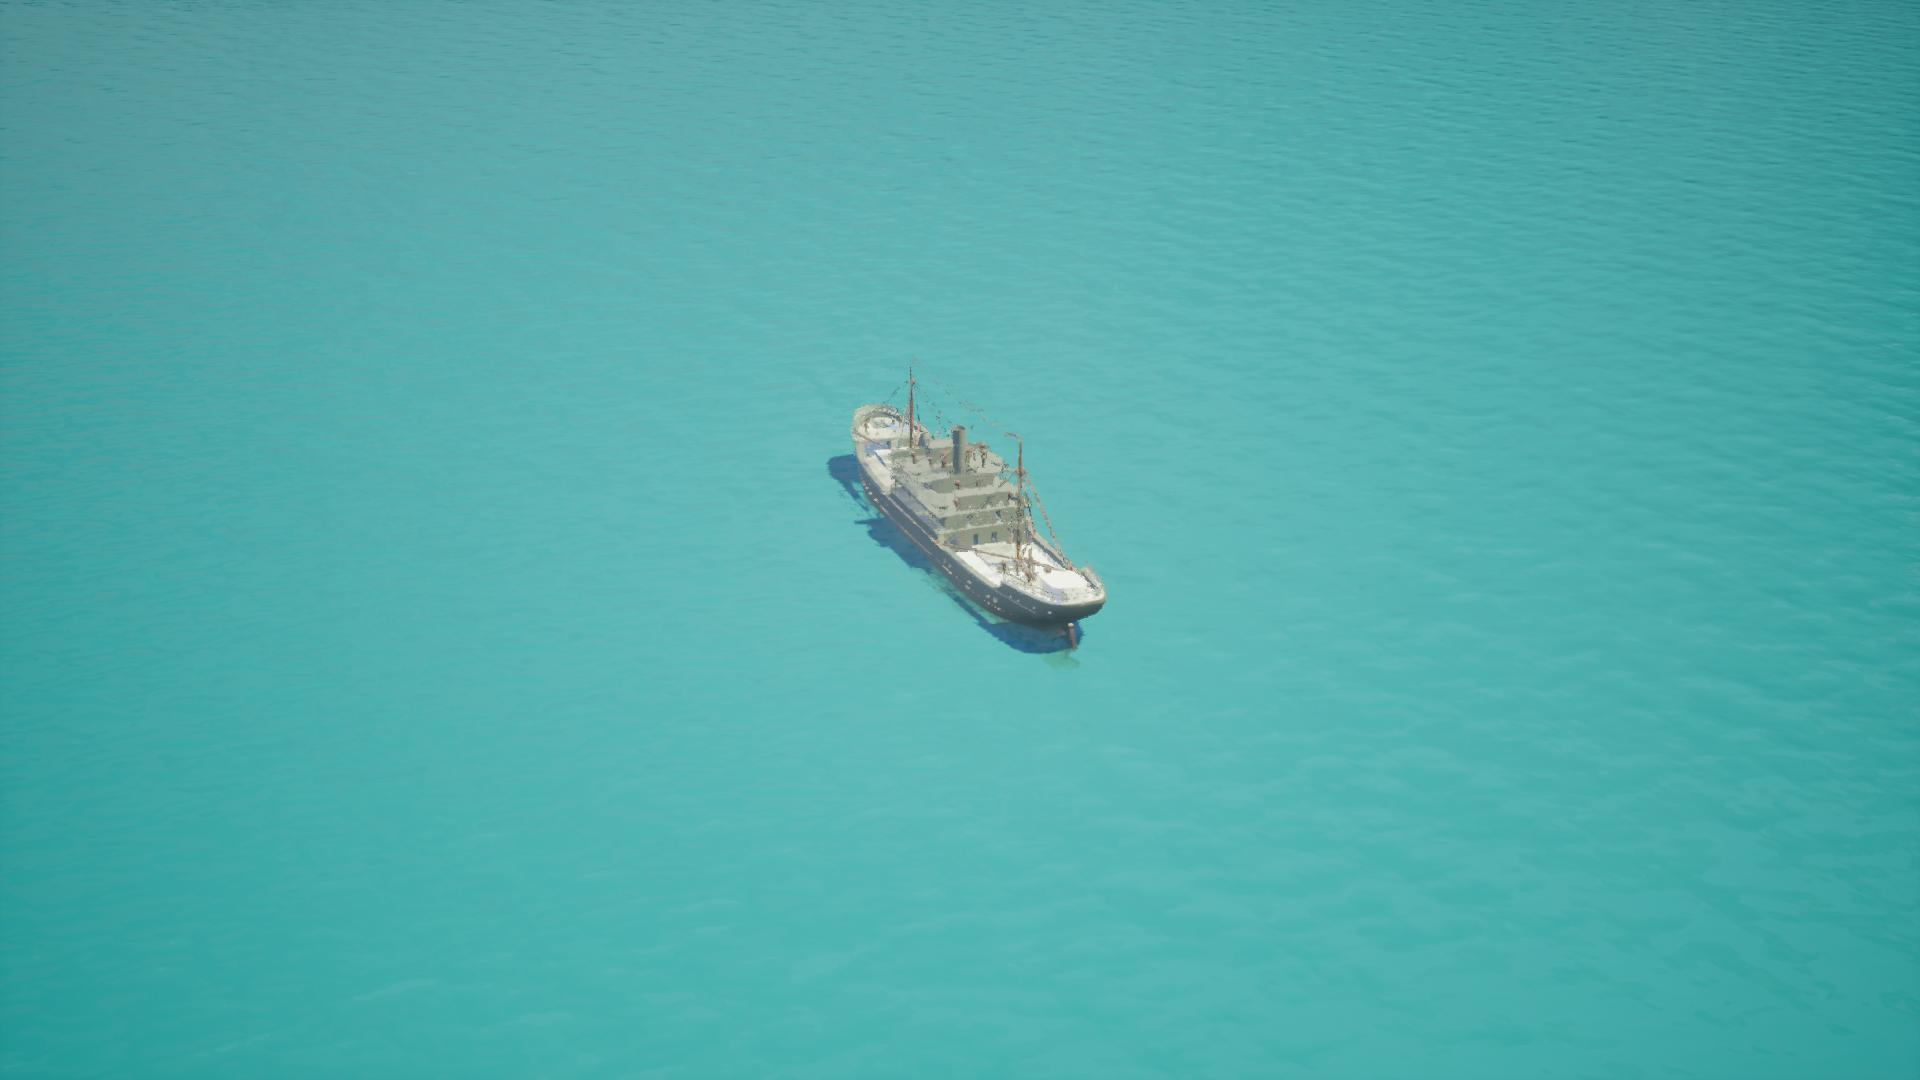Fishing Boat: (835, 389, 1095, 650)
